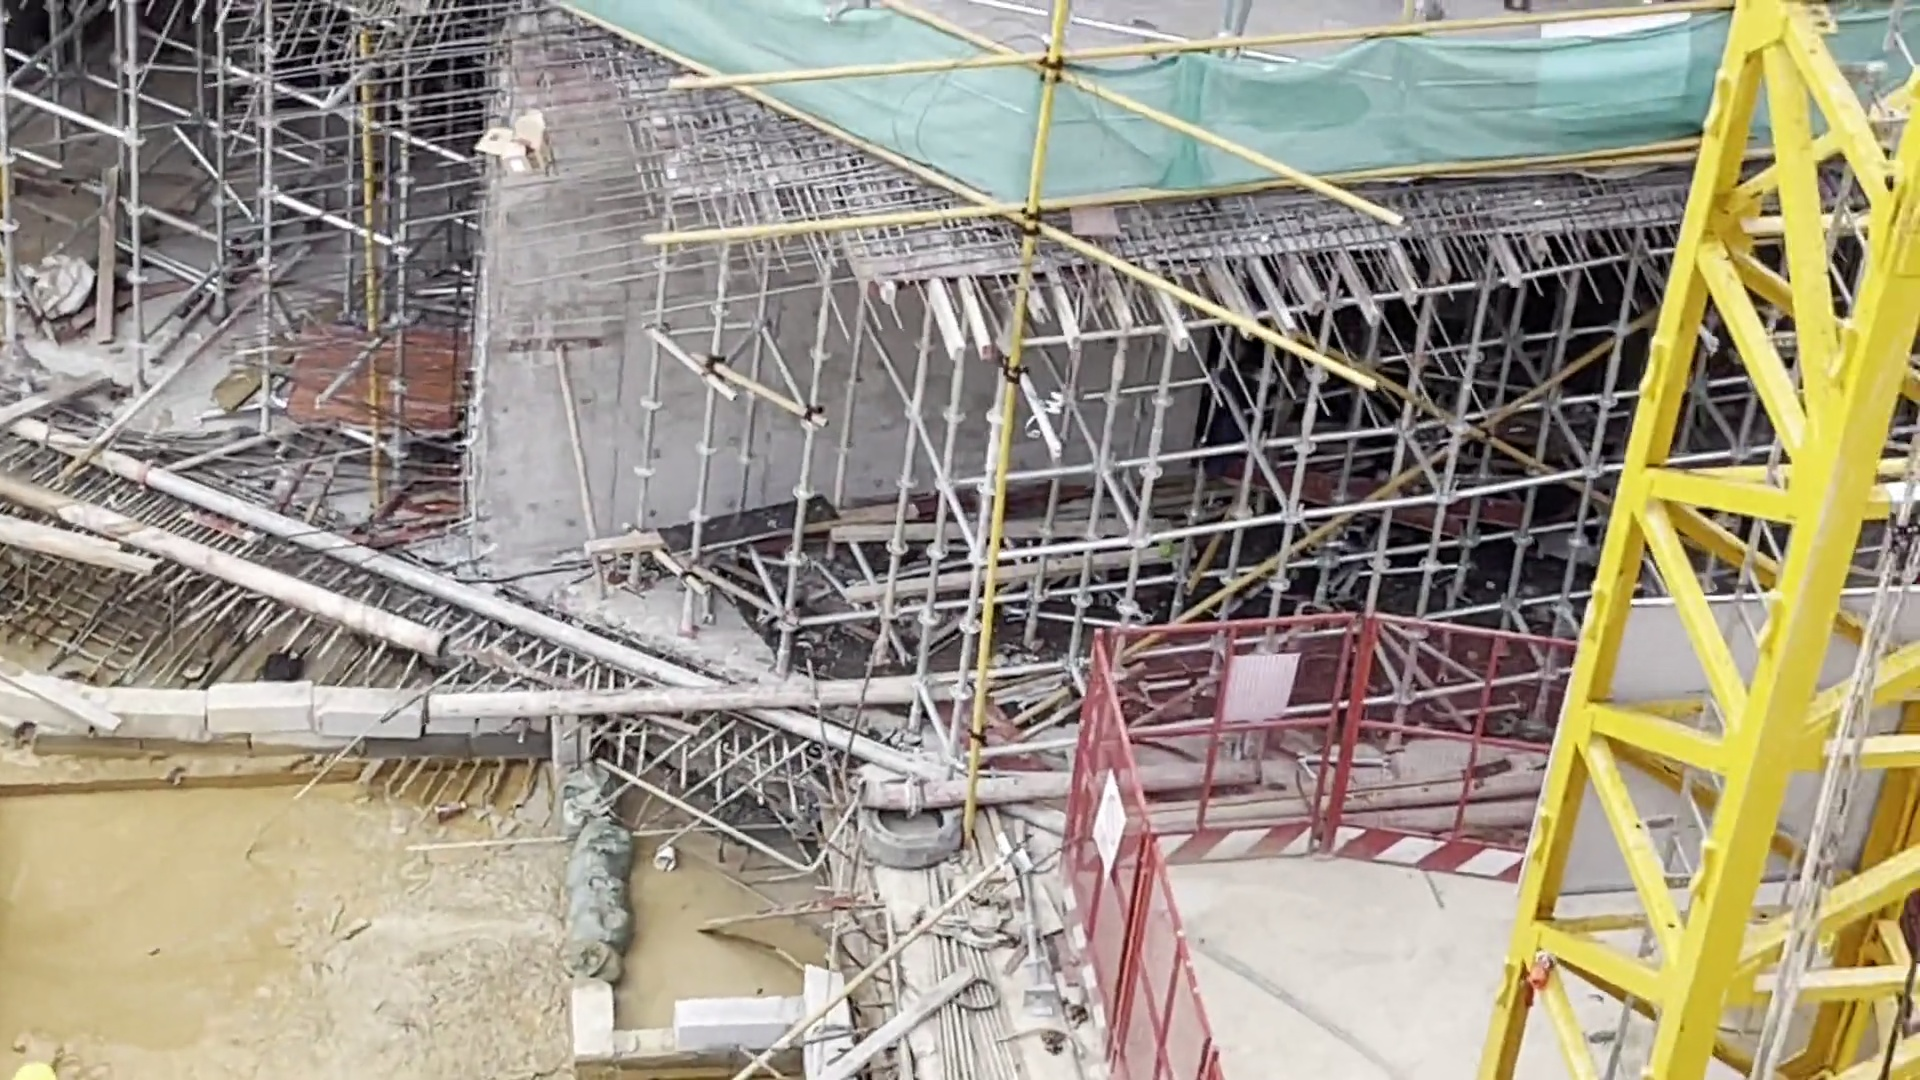fence: (1088, 626, 1594, 880), (986, 634, 1234, 1080)
